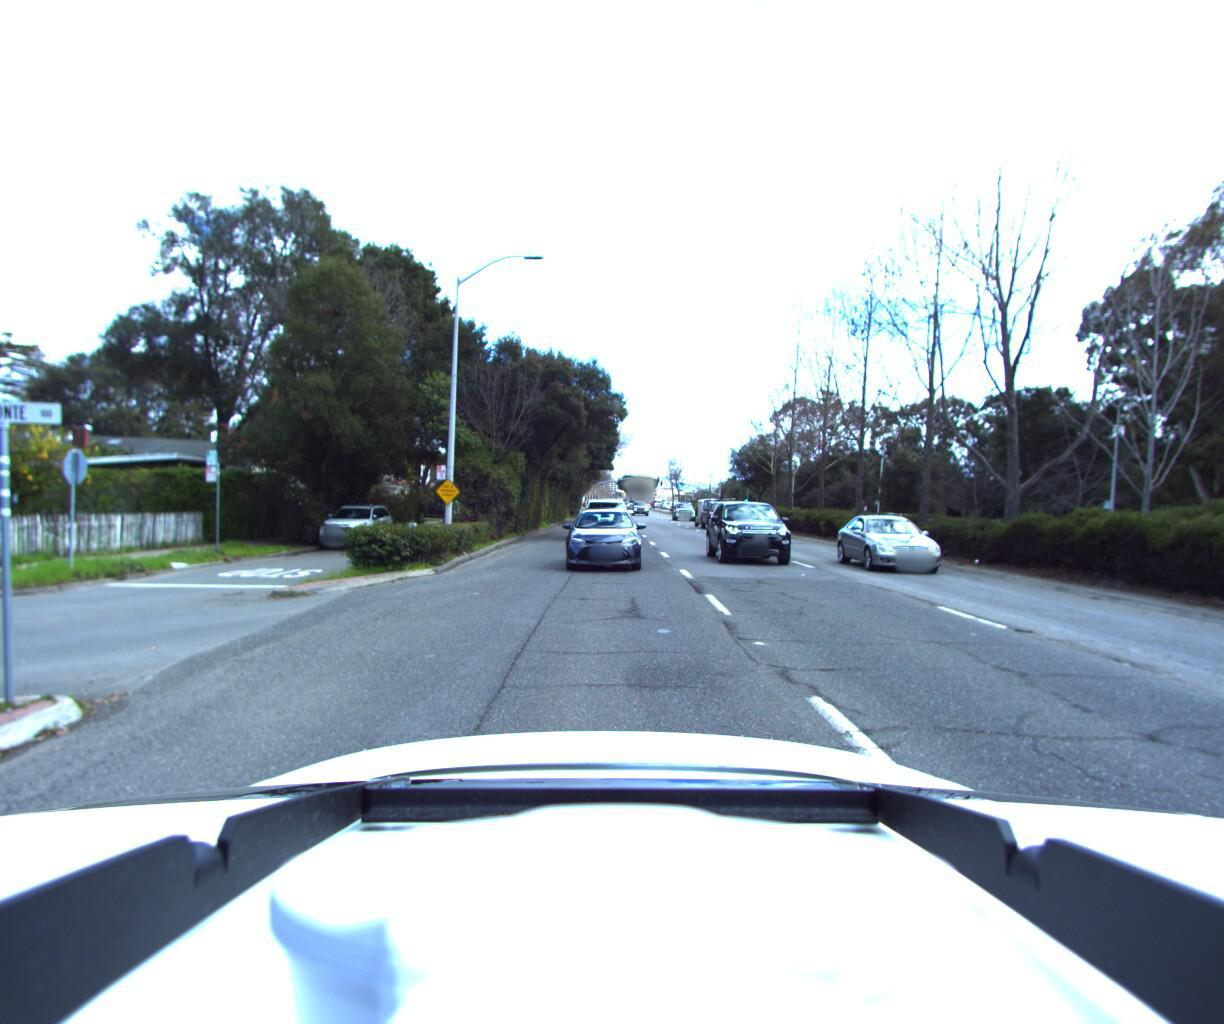car: (844, 513, 979, 583), (707, 504, 811, 578), (560, 507, 645, 578), (312, 504, 403, 556), (582, 501, 631, 546), (696, 497, 750, 536), (677, 504, 703, 525)
